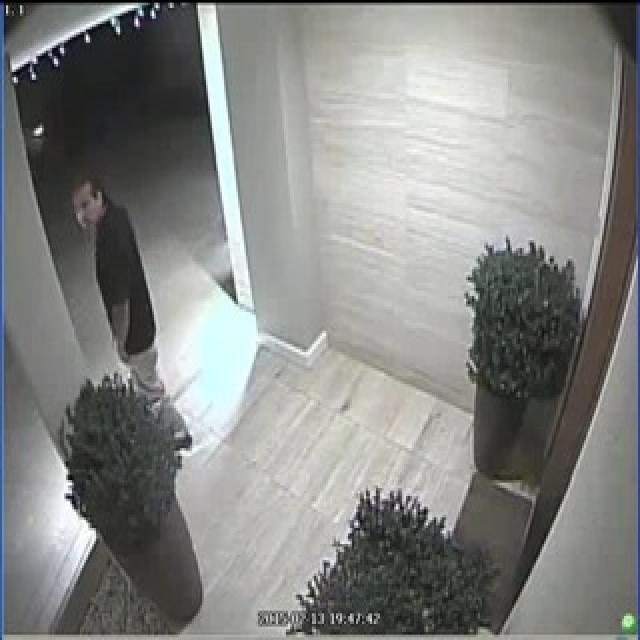thief: (66, 178, 175, 410)
